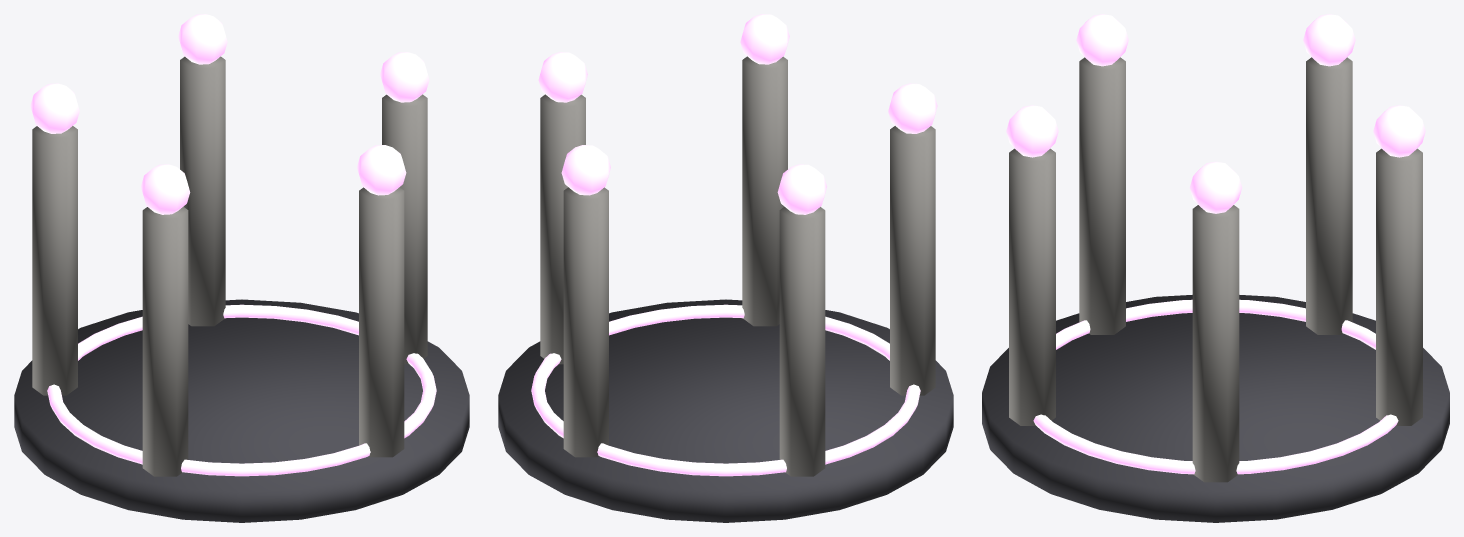
Rendered from academy_misc_summoning_stand.glb.
The picture shows the model from 3 angles, left to right: view 1: azimuth 30°, elevation 25°; view 2: azimuth 150°, elevation 25°; view 3: azimuth 270°, elevation 25°; orthographic projection. The views are drawn at different scales.
Visible parts, largest first — view 1: GD_academy_misc_summoning_stand__m0, GD_academy_misc_summoning_stand__m2, GD_academy_misc_summoning_stand__m1; view 2: GD_academy_misc_summoning_stand__m0, GD_academy_misc_summoning_stand__m2, GD_academy_misc_summoning_stand__m1; view 3: GD_academy_misc_summoning_stand__m2, GD_academy_misc_summoning_stand__m0, GD_academy_misc_summoning_stand__m1.
Boxes of the visible parts, bbox=[...] form: GD_academy_misc_summoning_stand__m0: bbox=[14, 299, 469, 522]; GD_academy_misc_summoning_stand__m2: bbox=[32, 56, 427, 476]; GD_academy_misc_summoning_stand__m1: bbox=[30, 14, 436, 476]; GD_academy_misc_summoning_stand__m0: bbox=[498, 299, 953, 522]; GD_academy_misc_summoning_stand__m2: bbox=[540, 56, 935, 476]; GD_academy_misc_summoning_stand__m1: bbox=[531, 14, 937, 476]; GD_academy_misc_summoning_stand__m2: bbox=[1009, 57, 1422, 482]; GD_academy_misc_summoning_stand__m0: bbox=[982, 295, 1449, 522]; GD_academy_misc_summoning_stand__m1: bbox=[1006, 14, 1425, 474].
Size of the model in its own units: 0.8 by 0.645 by 0.8.
